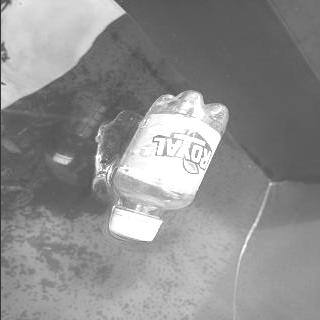bottle: (101, 89, 232, 244)
